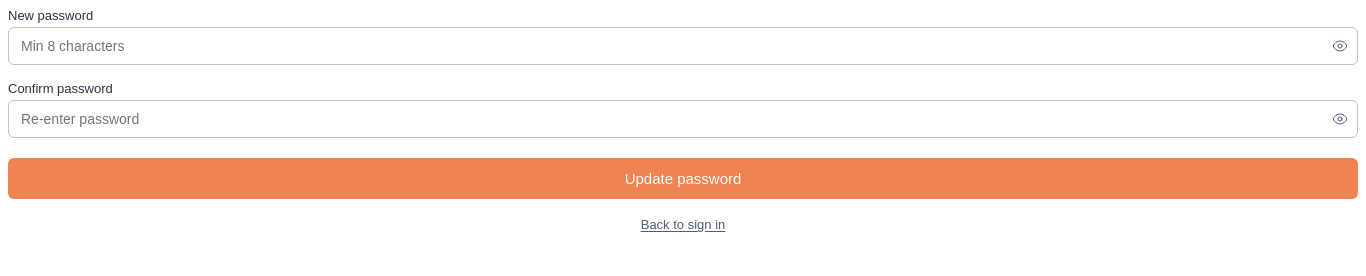
Scenario: ResetPasswordForm › shows password strength meter when typing
Check: the text "Strength:" is not shown
Type "ab" into the password field labelled "New password".
click(683, 46); type("ab")  # box 8,27 -> 1358,65
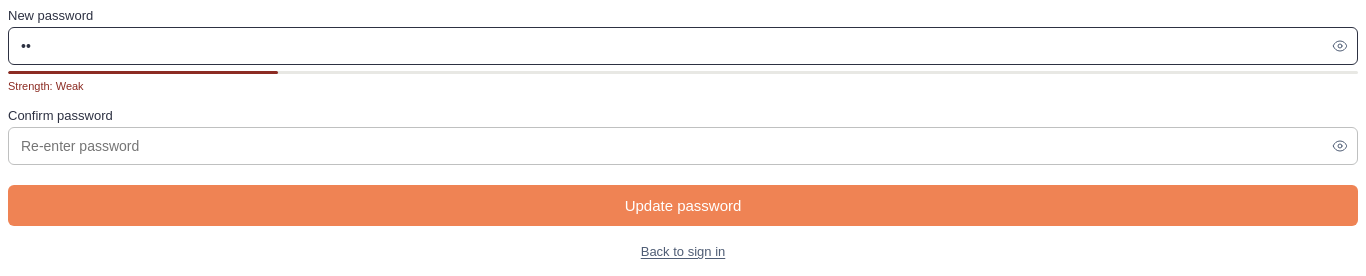
Check: the text "Strength: Weak" is shown, box 8,80 -> 84,92
